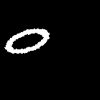chain: (5, 29, 48, 52)
